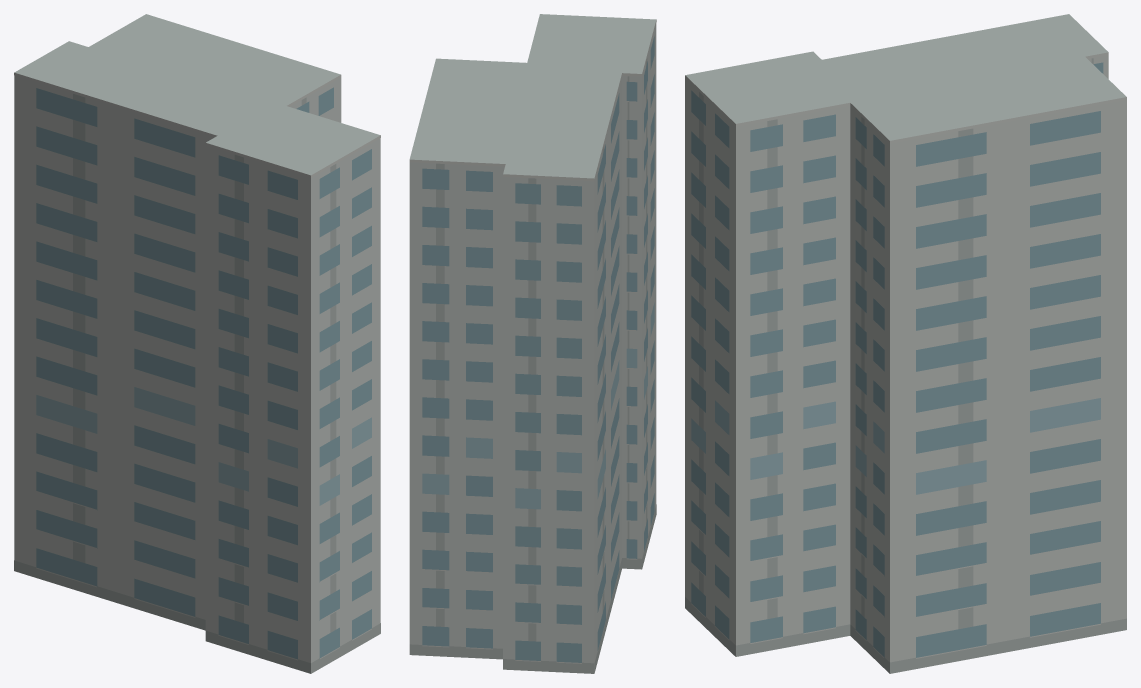
Rendered from residential-32cf047a-579c-492c-a8e5-c65260dcd674.glb.
3 views of the same model, side by side, from view 1: azimuth 30°, elevation 25°; view 2: azimuth 150°, elevation 25°; view 3: azimuth 270°, elevation 25° (orthographic). The views are drawn at different scales.
Parts seen in each view (by area): view 1: residential-32cf047a-579c-492c-a8e5-c65260dcd674.tmp; view 2: residential-32cf047a-579c-492c-a8e5-c65260dcd674.tmp; view 3: residential-32cf047a-579c-492c-a8e5-c65260dcd674.tmp.
Boxes of the visible parts, left/top/right/bottom form: residential-32cf047a-579c-492c-a8e5-c65260dcd674.tmp: left=14, top=14, right=380, bottom=673; residential-32cf047a-579c-492c-a8e5-c65260dcd674.tmp: left=409, top=14, right=656, bottom=673; residential-32cf047a-579c-492c-a8e5-c65260dcd674.tmp: left=685, top=14, right=1126, bottom=673.
Size of the model in its own units: 21.96 by 43 by 32.3.
